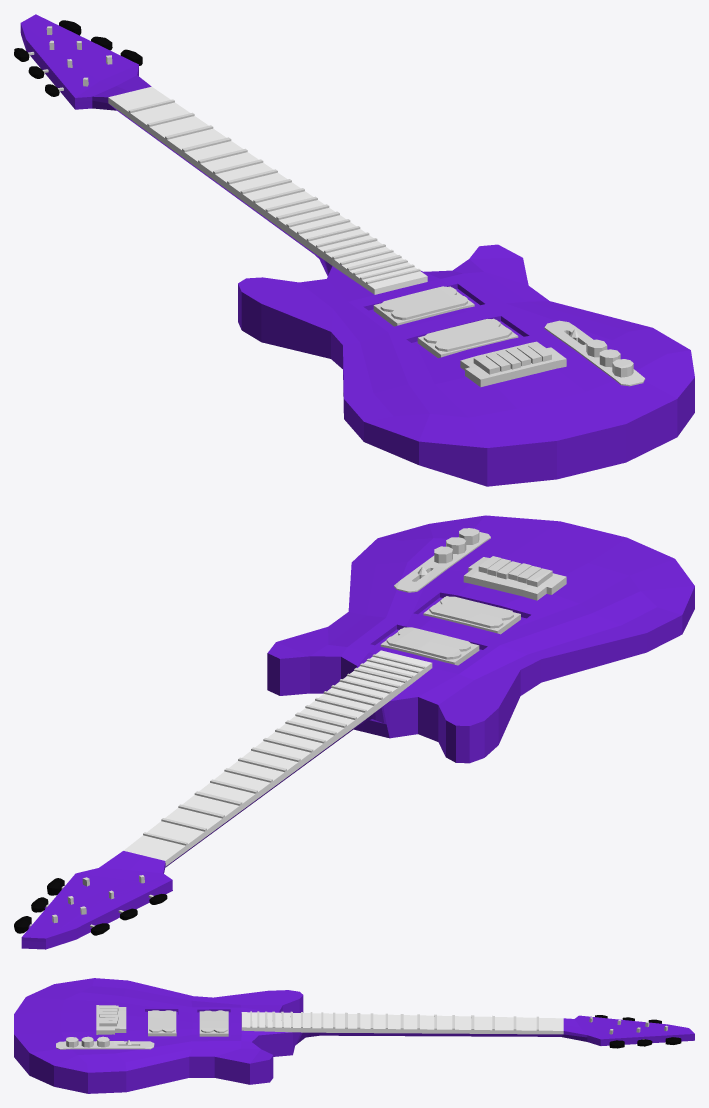
Rendered from LowPolyGuitar.glb.
3 views of the same model, one above another, from view 1: azimuth 30°, elevation 25°; view 2: azimuth 150°, elevation 25°; view 3: azimuth 270°, elevation 25° (orthographic). The views are drawn at different scales.
Parts seen in each view (by area): view 1: Plane; view 2: Plane; view 3: Plane.
Boxes of the visible parts, x1=… form: Plane: x1=14, y1=14, x2=694, y2=486; Plane: x1=14, y1=515, x2=694, y2=949; Plane: x1=14, y1=978, x2=694, y2=1093.
Bounding box in the file's own units: 10.35 × 1.72 × 32.03.
